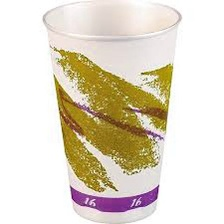paper_cup: (37, 0, 186, 224)
